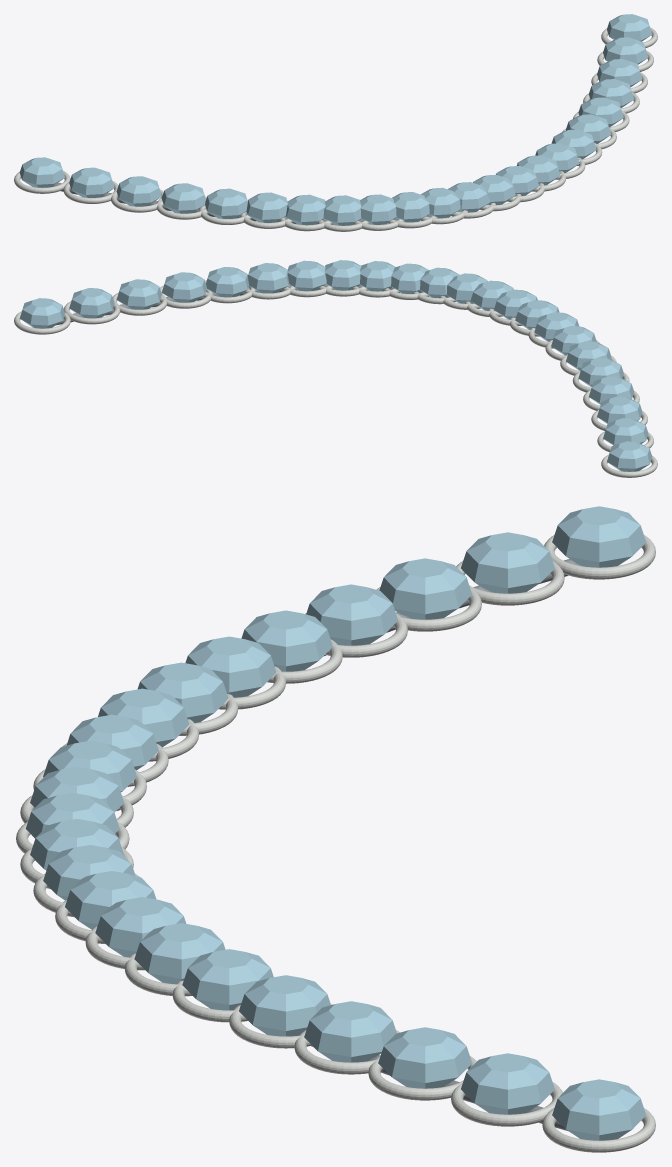
The picture shows the model from 3 angles, top to bottom: view 1: azimuth 30°, elevation 25°; view 2: azimuth 150°, elevation 25°; view 3: azimuth 270°, elevation 25°; orthographic projection. The views are drawn at different scales.
Parts seen in each view (by area): view 1: TI020 / individual astramarine 0, TI020 / individual astramarine 1, TI020 / individual astramarine 2, TI020 / individual astramarine 3, TI020 / individual astramarine 4, TI020 / individual astramarine 5, TI020 / individual astramarine 6, TI020 / individual astramarine 7, TI020 / individual astramarine 22, TI020 / individual astramarine 8, TI020 / individual astramarine 21, TI020 / individual astramarine 9 (+17 smaller); view 2: TI020 / individual astramarine 0, TI020 / individual astramarine 22, TI020 / individual astramarine 19, TI020 / individual astramarine 21, TI020 / individual astramarine 20, TI020 / individual astramarine 18, TI020 / individual astramarine 17, TI020 / individual astramarine 16, TI020 / individual astramarine 1, TI020 / individual astramarine 15, TI020 / individual astramarine 2, TI020 / individual astramarine 14 (+17 smaller); view 3: TI020 / individual astramarine 0, TI020 / individual astramarine 22, TI020 / individual astramarine 20, TI020 / individual astramarine 1, TI020 / individual astramarine 21, TI020 / individual astramarine 19, TI020 / individual astramarine 2, TI020 / individual astramarine 3, TI020 / individual astramarine 18, TI020 / individual astramarine 17, TI020 / individual astramarine 4, TI020 / individual astramarine 16 (+22 smaller).
Part boxes in pixels (x1=…): TI020 / individual astramarine 0: x1=19, y1=157, x2=64, y2=187; TI020 / individual astramarine 1: x1=69, y1=167, x2=114, y2=197; TI020 / individual astramarine 2: x1=116, y1=176, x2=161, y2=206; TI020 / individual astramarine 3: x1=161, y1=183, x2=205, y2=213; TI020 / individual astramarine 4: x1=205, y1=188, x2=247, y2=218; TI020 / individual astramarine 5: x1=246, y1=192, x2=287, y2=222; TI020 / individual astramarine 6: x1=286, y1=194, x2=325, y2=225; TI020 / individual astramarine 7: x1=323, y1=195, x2=361, y2=225; TI020 / individual astramarine 22: x1=607, y1=14, x2=652, y2=41; TI020 / individual astramarine 8: x1=360, y1=194, x2=396, y2=224; TI020 / individual astramarine 21: x1=603, y1=37, x2=648, y2=64; TI020 / individual astramarine 9: x1=392, y1=192, x2=429, y2=222; TI020 / individual astramarine 0: x1=607, y1=441, x2=652, y2=471; TI020 / individual astramarine 22: x1=19, y1=298, x2=64, y2=328; TI020 / individual astramarine 19: x1=162, y1=272, x2=206, y2=302; TI020 / individual astramarine 21: x1=69, y1=288, x2=114, y2=318; TI020 / individual astramarine 20: x1=116, y1=279, x2=161, y2=309; TI020 / individual astramarine 18: x1=206, y1=267, x2=249, y2=297; TI020 / individual astramarine 17: x1=247, y1=263, x2=289, y2=293; TI020 / individual astramarine 16: x1=287, y1=260, x2=326, y2=291; TI020 / individual astramarine 1: x1=603, y1=418, x2=648, y2=445; TI020 / individual astramarine 15: x1=324, y1=260, x2=361, y2=290; TI020 / individual astramarine 2: x1=597, y1=396, x2=642, y2=423; TI020 / individual astramarine 14: x1=360, y1=261, x2=395, y2=291; TI020 / individual astramarine 0: x1=552, y1=506, x2=646, y2=567; TI020 / individual astramarine 22: x1=552, y1=1079, x2=646, y2=1140; TI020 / individual astramarine 20: x1=378, y1=1027, x2=471, y2=1088; TI020 / individual astramarine 1: x1=461, y1=532, x2=554, y2=593; TI020 / individual astramarine 21: x1=461, y1=1053, x2=554, y2=1114; TI020 / individual astramarine 19: x1=304, y1=1001, x2=396, y2=1062; TI020 / individual astramarine 2: x1=379, y1=558, x2=472, y2=619; TI020 / individual astramarine 3: x1=306, y1=584, x2=398, y2=645; TI020 / individual astramarine 18: x1=239, y1=975, x2=330, y2=1036; TI020 / individual astramarine 17: x1=182, y1=949, x2=273, y2=1010; TI020 / individual astramarine 4: x1=241, y1=610, x2=332, y2=671; TI020 / individual astramarine 16: x1=134, y1=923, x2=225, y2=984.
Size of the model in its own units: 4.05 by 0.1651 by 1.77.
